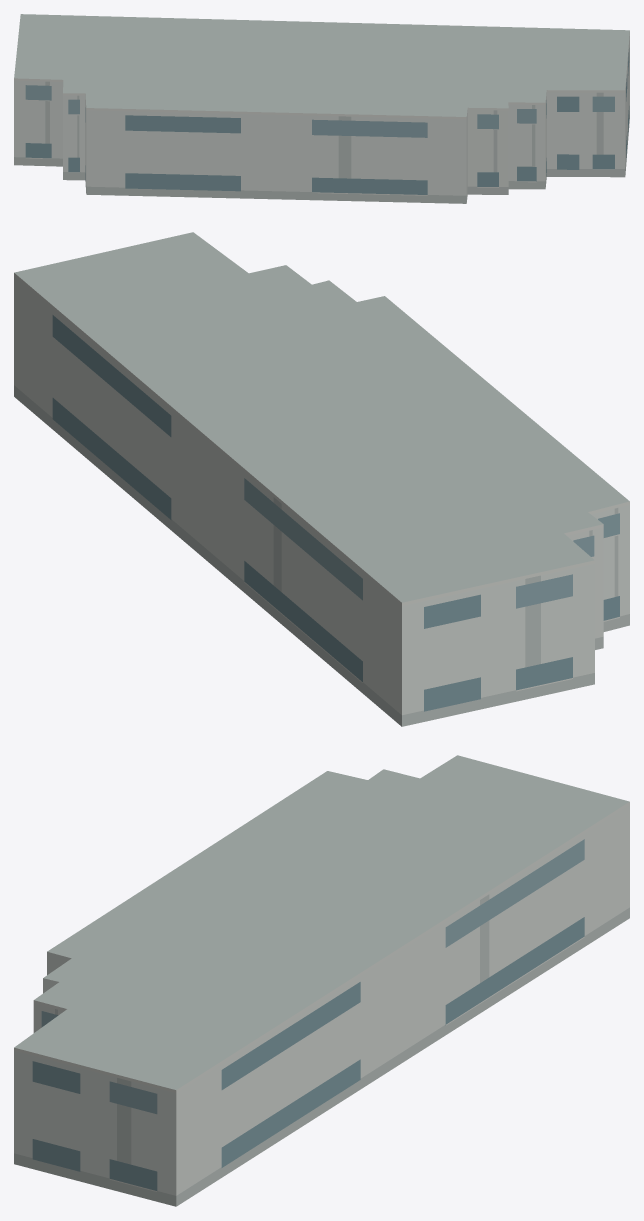
File: survey-upis-32933776.glb
3 renders of one model, top to bottom at view 1: azimuth 30°, elevation 25°; view 2: azimuth 150°, elevation 25°; view 3: azimuth 270°, elevation 25°, orthographic. The views are drawn at different scales.
Visible parts, largest first — view 1: survey-upis-32933776.tmp; view 2: survey-upis-32933776.tmp; view 3: survey-upis-32933776.tmp.
Boxes of the visible parts, x1,y1,x2,y2 form: survey-upis-32933776.tmp: (14, 14, 629, 203); survey-upis-32933776.tmp: (14, 232, 629, 726); survey-upis-32933776.tmp: (14, 755, 629, 1206).
Size of the model in its own units: 56.39 by 9.15 by 43.81.
